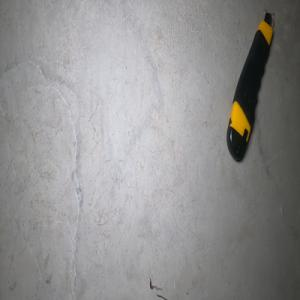Cutter: (225, 11, 273, 163)
